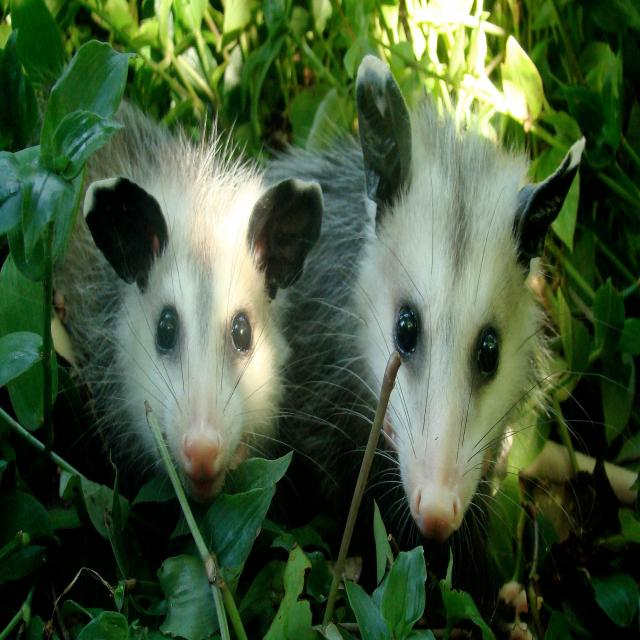Possum: (347, 38, 588, 560), (62, 114, 332, 508)
